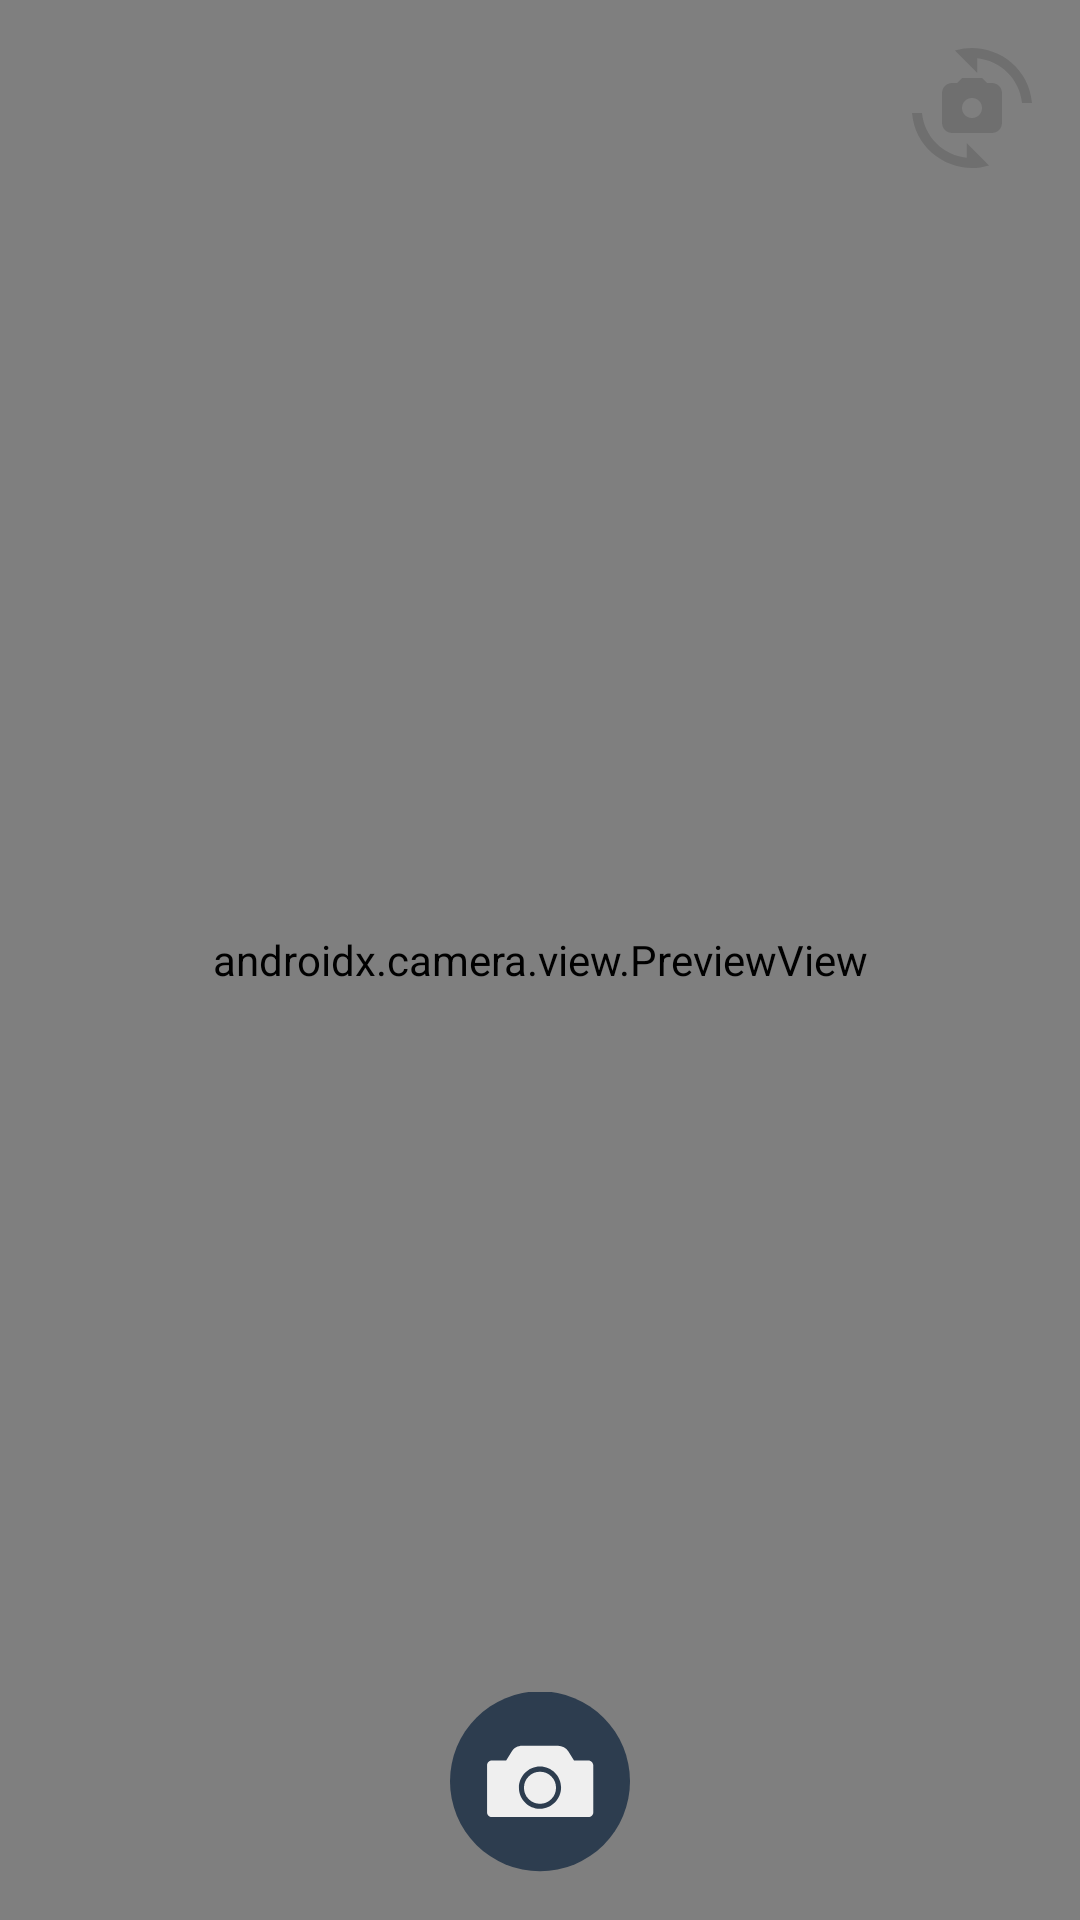

Locate icon controls on the screen. Image size 1080px x 1920px, boxes as (x1, y1, x2, y2).
capture: (450, 1692, 630, 1871)
